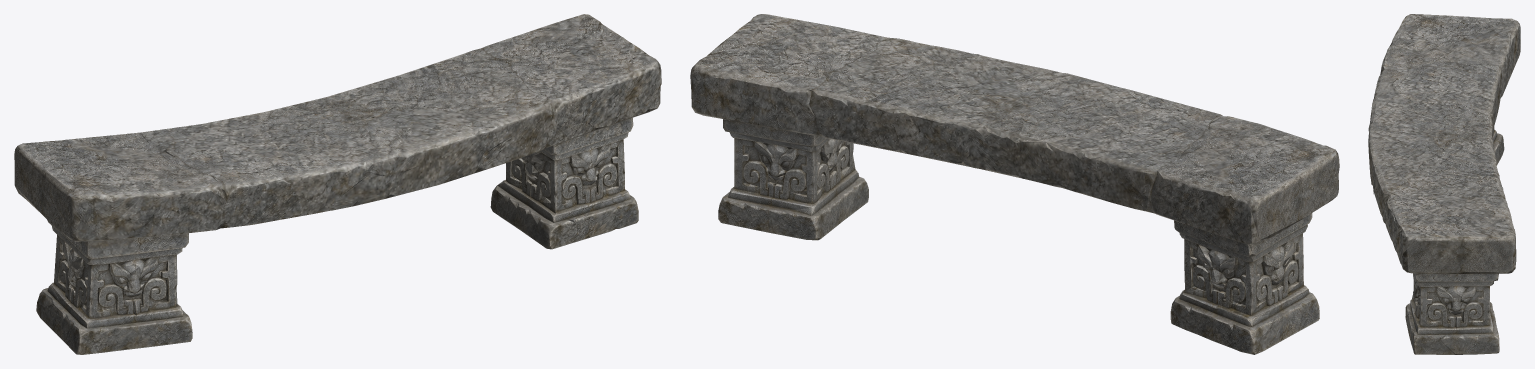
File: bench_curved.glb
The picture shows the model from 3 angles, left to right: view 1: azimuth 30°, elevation 25°; view 2: azimuth 150°, elevation 25°; view 3: azimuth 270°, elevation 25°; orthographic projection. The views are drawn at different scales.
Parts seen in each view (by area): view 1: Mesh_0; view 2: Mesh_0; view 3: Mesh_0.
Boxes of the visible parts, <box> form: Mesh_0: <box>14,14,661,354</box>; Mesh_0: <box>690,14,1339,354</box>; Mesh_0: <box>1368,14,1520,354</box>.
Bounding box in the file's own units: 2.2 × 0.601 × 0.6411.
Materials: 1 (1 with a texture image).
